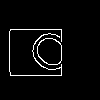O: (25, 25, 85, 84)
